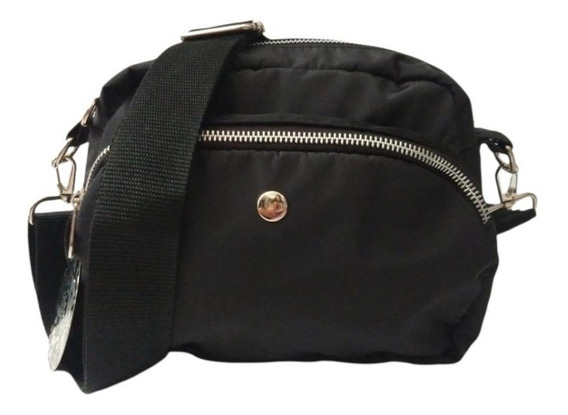cartera: (68, 19, 500, 366)
